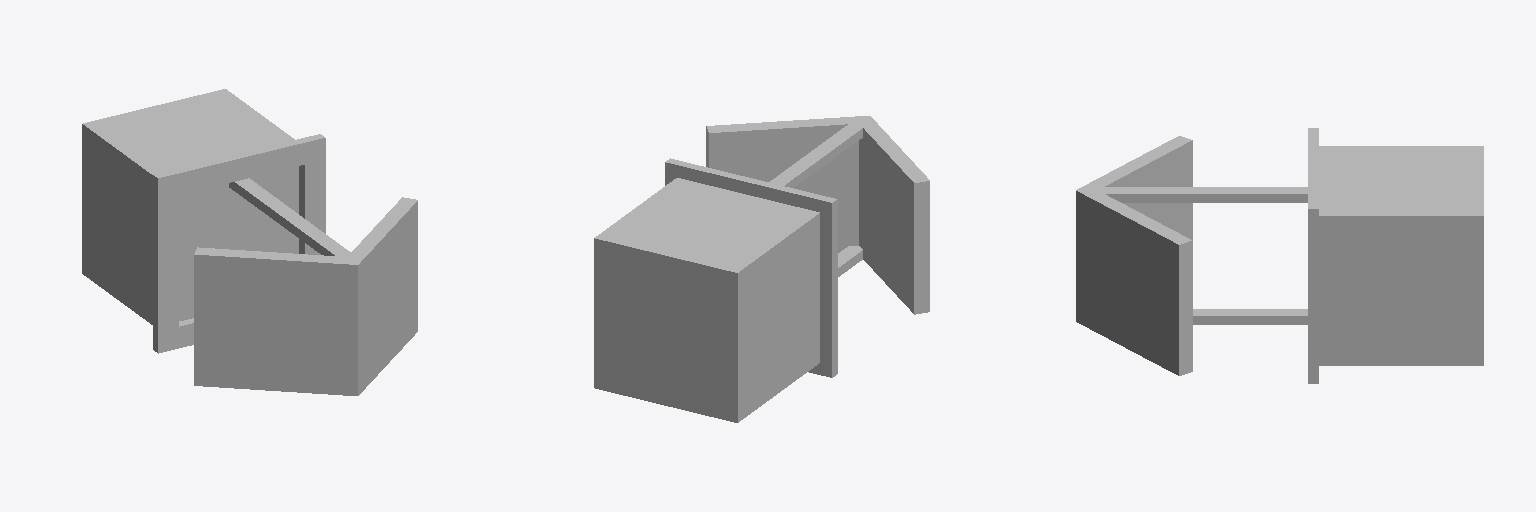
The model's file is WishingWell.obj.
3 renders of one model, left to right at view 1: azimuth 30°, elevation 25°; view 2: azimuth 150°, elevation 25°; view 3: azimuth 270°, elevation 25°, orthographic.
Visible parts, largest first — view 1: mesh18, mesh29, mesh28, mesh21, mesh9, mesh19, mesh17, mesh3, mesh24, mesh23; view 2: mesh31, mesh29, mesh28, mesh14, mesh13, mesh26, mesh17, mesh15, mesh24, mesh23, mesh3; view 3: mesh27, mesh19, mesh28, mesh17, mesh13, mesh22, mesh20, mesh5, mesh11, mesh23, mesh10.
Boxes of the visible parts, <box> form: mesh18: <box>194,255,357,395</box>; mesh29: <box>82,124,152,324</box>; mesh28: <box>83,89,294,174</box>; mesh21: <box>158,138,325,353</box>; mesh9: <box>179,166,298,320</box>; mesh19: <box>358,201,417,395</box>; mesh17: <box>194,178,417,264</box>; mesh3: <box>229,182,334,255</box>; mesh24: <box>153,175,157,352</box>; mesh23: <box>154,134,324,177</box>; mesh31: <box>594,238,737,422</box>; mesh29: <box>738,213,819,422</box>; mesh28: <box>595,178,819,272</box>; mesh14: <box>709,124,858,252</box>; mesh13: <box>859,128,913,313</box>; mesh26: <box>665,162,831,377</box>; mesh17: <box>707,116,929,185</box>; mesh15: <box>914,181,929,314</box>; mesh24: <box>832,199,837,377</box>; mesh23: <box>666,158,836,202</box>; mesh3: <box>785,128,862,187</box>; mesh27: <box>1319,216,1483,365</box>; mesh19: <box>1076,191,1178,375</box>; mesh28: <box>1319,146,1483,215</box>; mesh17: <box>1076,136,1307,244</box>; mesh13: <box>1105,140,1192,239</box>; mesh22: <box>1308,209,1318,383</box>; mesh20: <box>1179,240,1192,375</box>; mesh5: <box>1106,194,1307,202</box>; mesh11: <box>1193,316,1307,324</box>; mesh23: <box>1308,128,1318,208</box>; mesh10: <box>1193,309,1307,315</box>.
Bounding box in the file's own units: 0.952 × 0.7112 × 1.5.